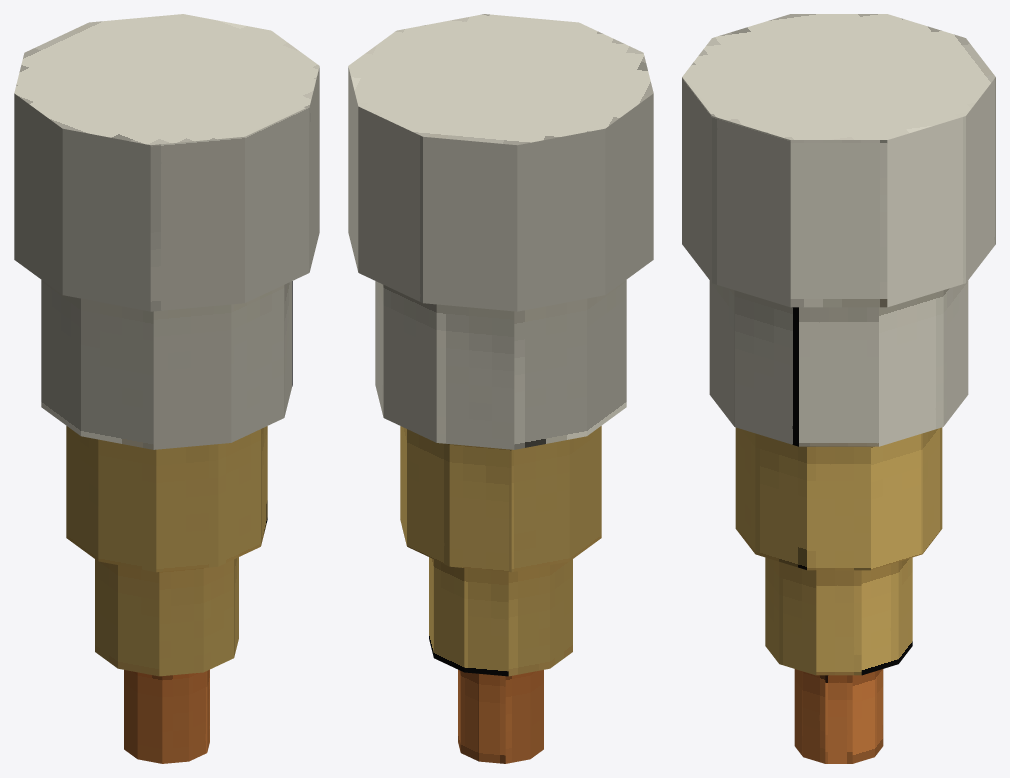
File: flame.glb
The picture shows the model from 3 angles, left to right: view 1: azimuth 30°, elevation 25°; view 2: azimuth 150°, elevation 25°; view 3: azimuth 270°, elevation 25°; orthographic projection.
Visible parts, largest first — view 1: flame; view 2: flame; view 3: flame.
Part boxes in pixels (box(x1,y1,x2,y2)): flame: box(14, 14, 319, 763); flame: box(348, 14, 653, 763); flame: box(682, 14, 995, 763).
Size of the model in its own units: 0.1617 by 0.4 by 0.17.
Materials: 3 (3 with a texture image).
